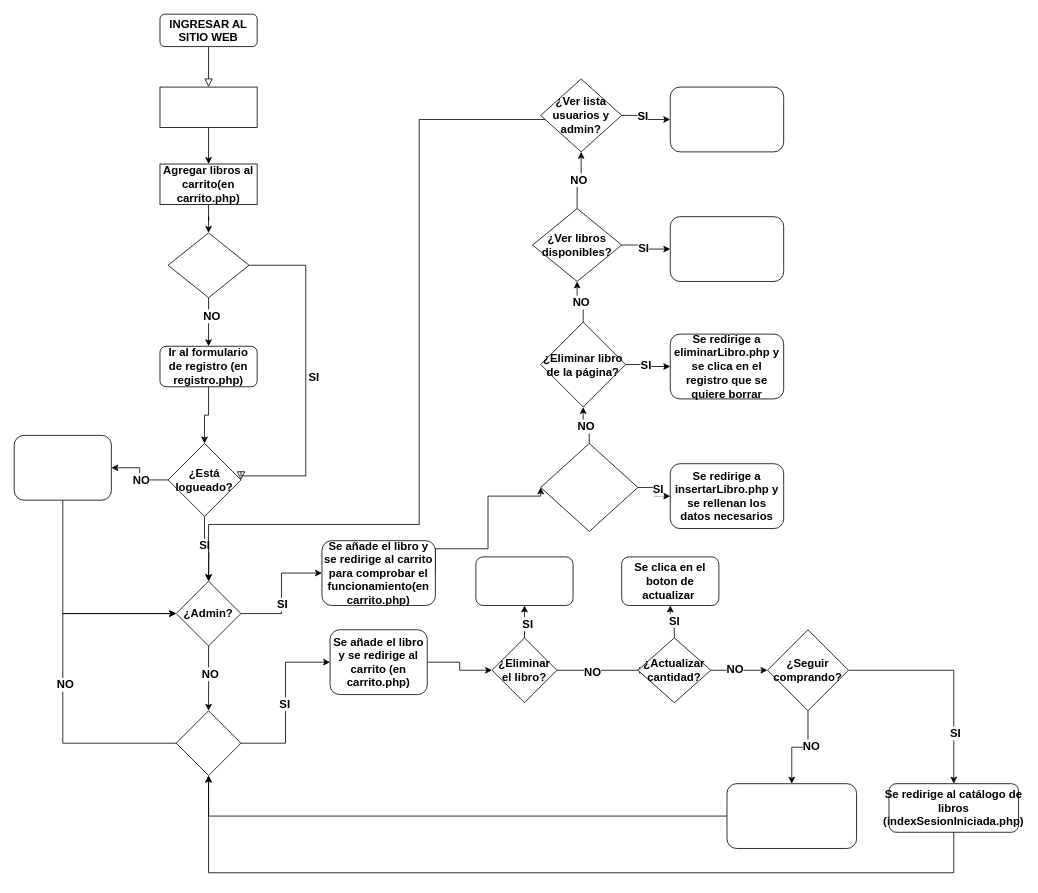
The diagram is 1038 pixels wide and 893 high, and some of its shapes have lost their labels. The centre of each missing label's shape, as x and y in pixels:
"Ir al formulario de inicio de sesión (en inicioSesion.php)" belongs at point 62,467.
"Se clica en el boton de Eliminar" belongs at point 524,580.
"Se redirige a Libros.php y se abre el catálogo disponible actual." belongs at point 726,248.
"Se redirige a usuario.php y se ven todos los usuarios y admin registrados." belongs at point 726,119.
"Se tramita el pedido, se paga y se redirige a (tramitarPedido.php)" belongs at point 791,815.
"Ver catálogo de libros(en index.php)" belongs at point 208,107.
"¿Añadir nuevo libro a la página?" belongs at point 589,487.
"¿Tiene una cuenta?" belongs at point 208,265.
"¿Usuario?" belongs at point 208,743.
